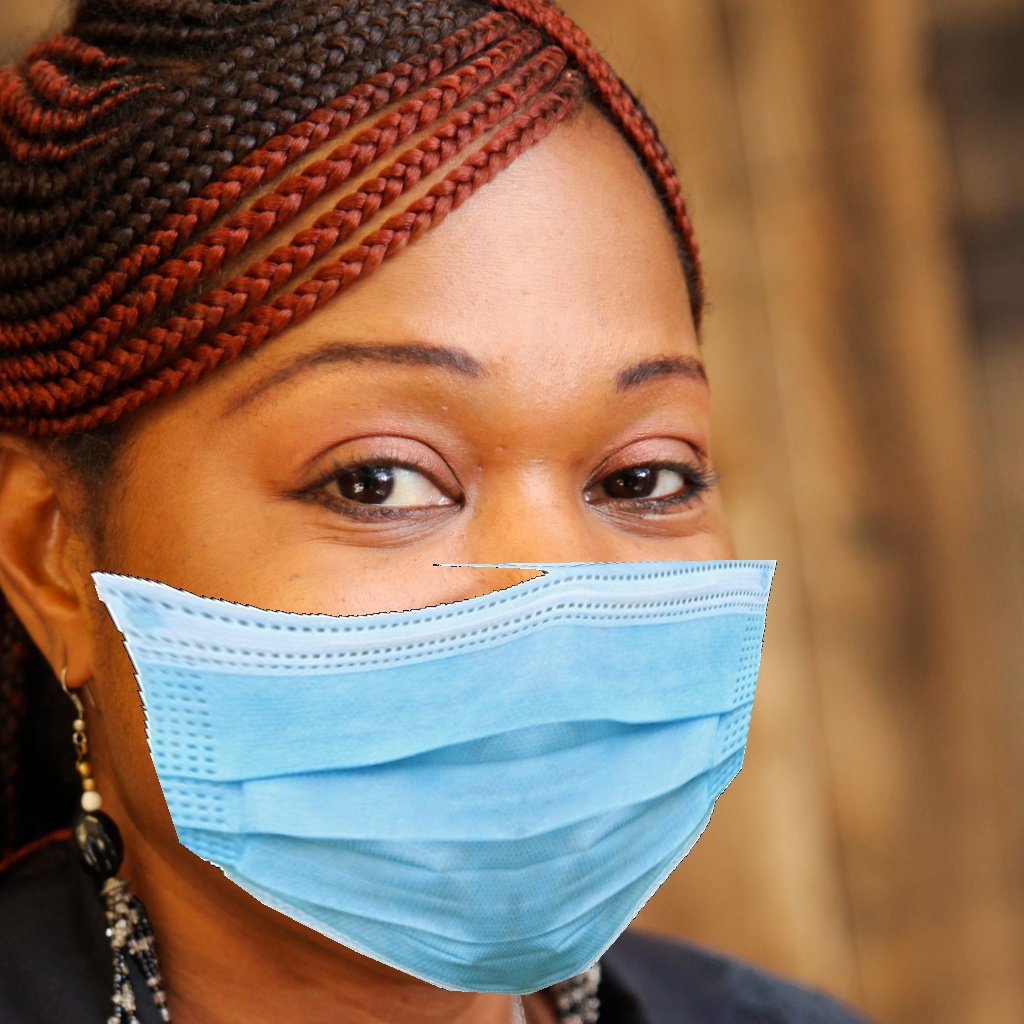Mask: (89, 334, 780, 1001)
